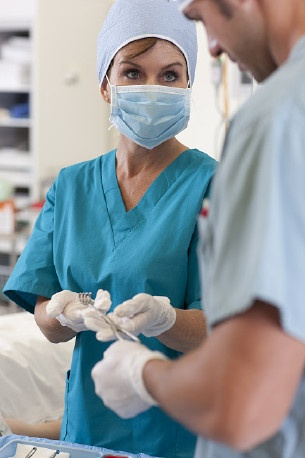Mask: (105, 51, 206, 152)
